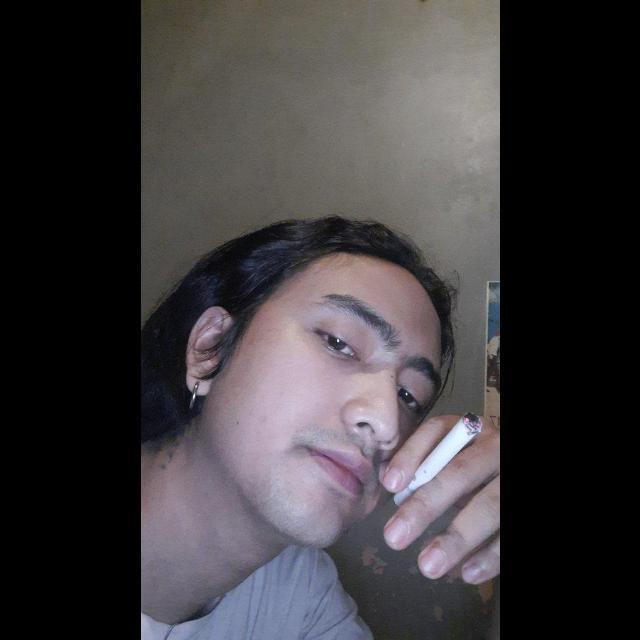rokok: (386, 405, 499, 513)
